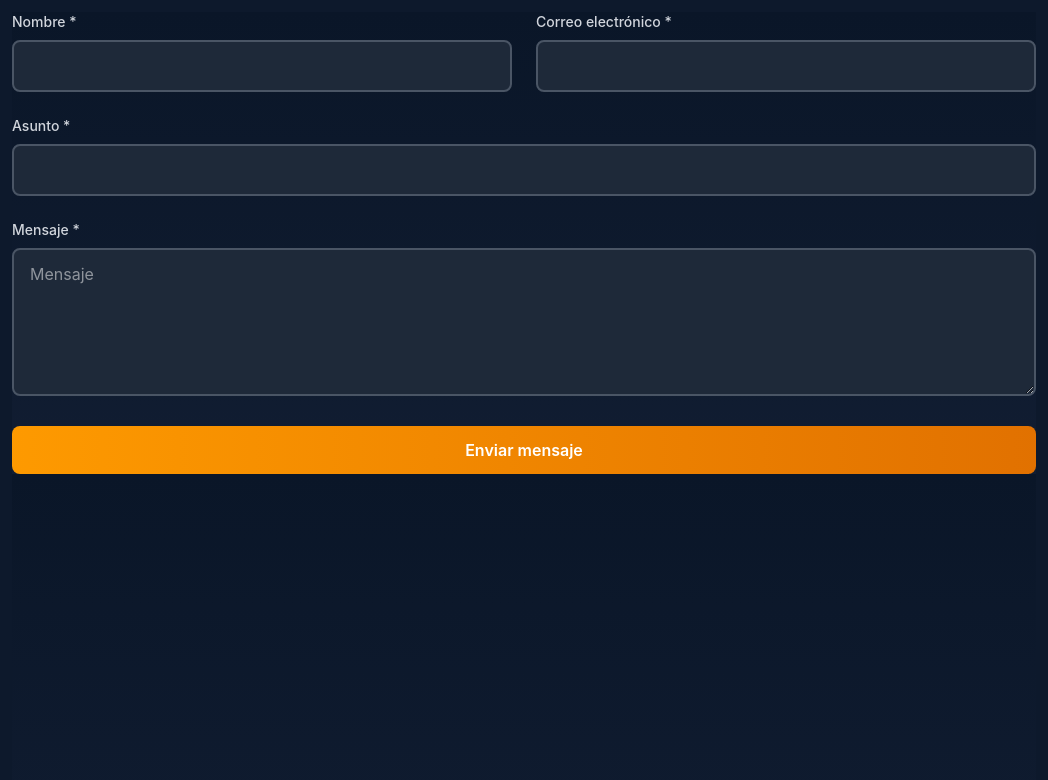
Test case: ContactForm › clears error when user starts typing
# Trigger validation error
Click the button "Enviar mensaje".
click(524, 450)  # box x1=12 y1=426 x2=1036 y2=474
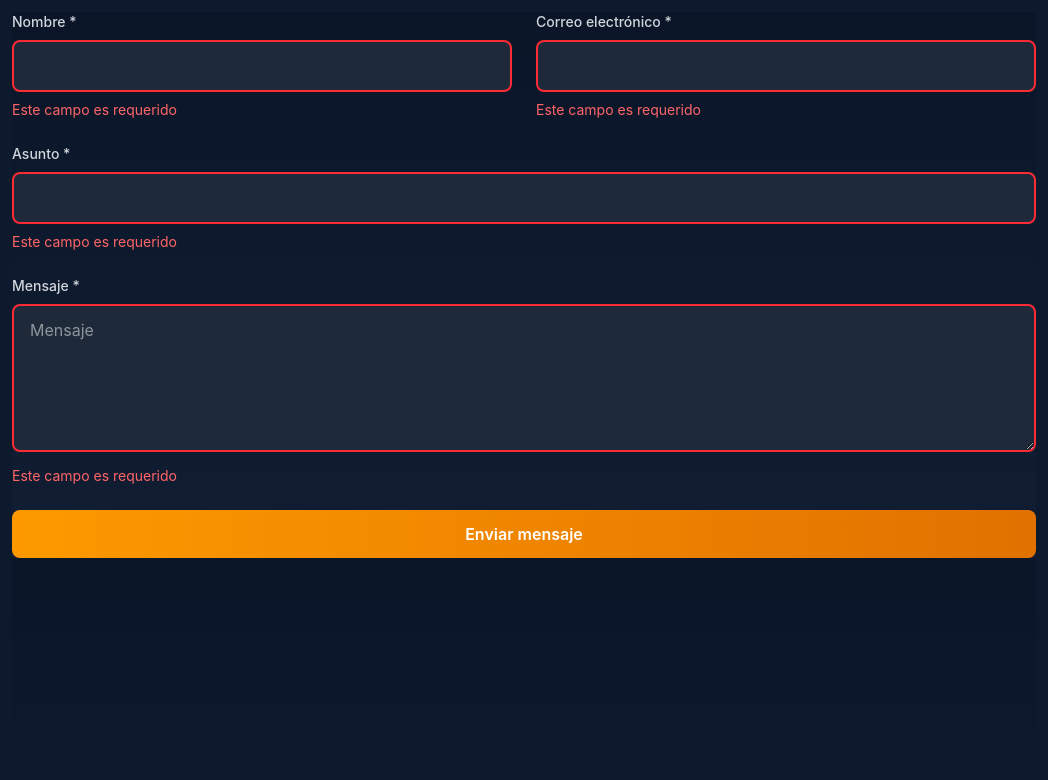
Result: the text "Este campo es requerido" is shown 4 times at x1=12 y1=101 x2=177 y2=118; x1=536 y1=101 x2=701 y2=118; x1=12 y1=233 x2=177 y2=250; x1=12 y1=467 x2=177 y2=484
# Start typing to clear error for name field only
Type "John" into the field labelled "Nombre *".
click(262, 66); type("John")  # box x1=12 y1=40 x2=512 y2=92
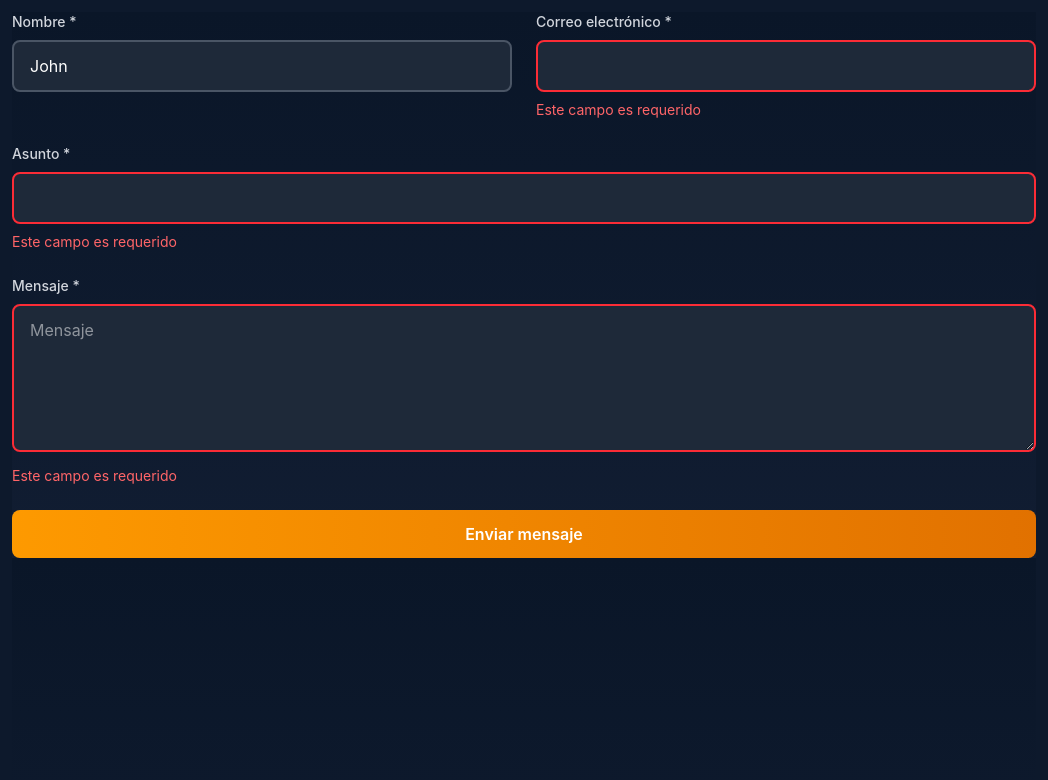
Result: the text "Este campo es requerido" is shown 3 times at x1=536 y1=101 x2=701 y2=118; x1=12 y1=233 x2=177 y2=250; x1=12 y1=467 x2=177 y2=484
Result: the message with id "name-error" is gone
